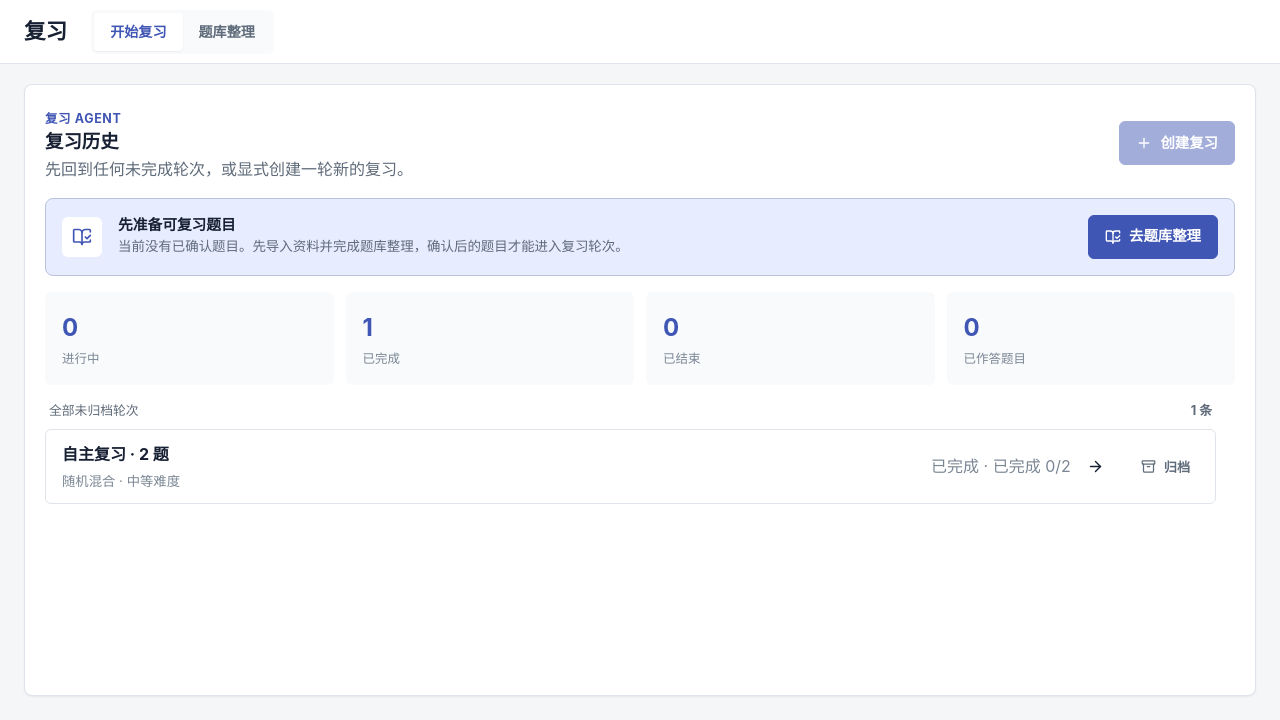
Scenario: R2 ReviewPage › shows completed results without reopening setup
Expected: the heading "复习历史" is shown, top-left (45, 130), bottom-right (119, 152)
Click the button "2 题" at coordinates (94, 454), box top-left (46, 430), bottom-right (1120, 504)
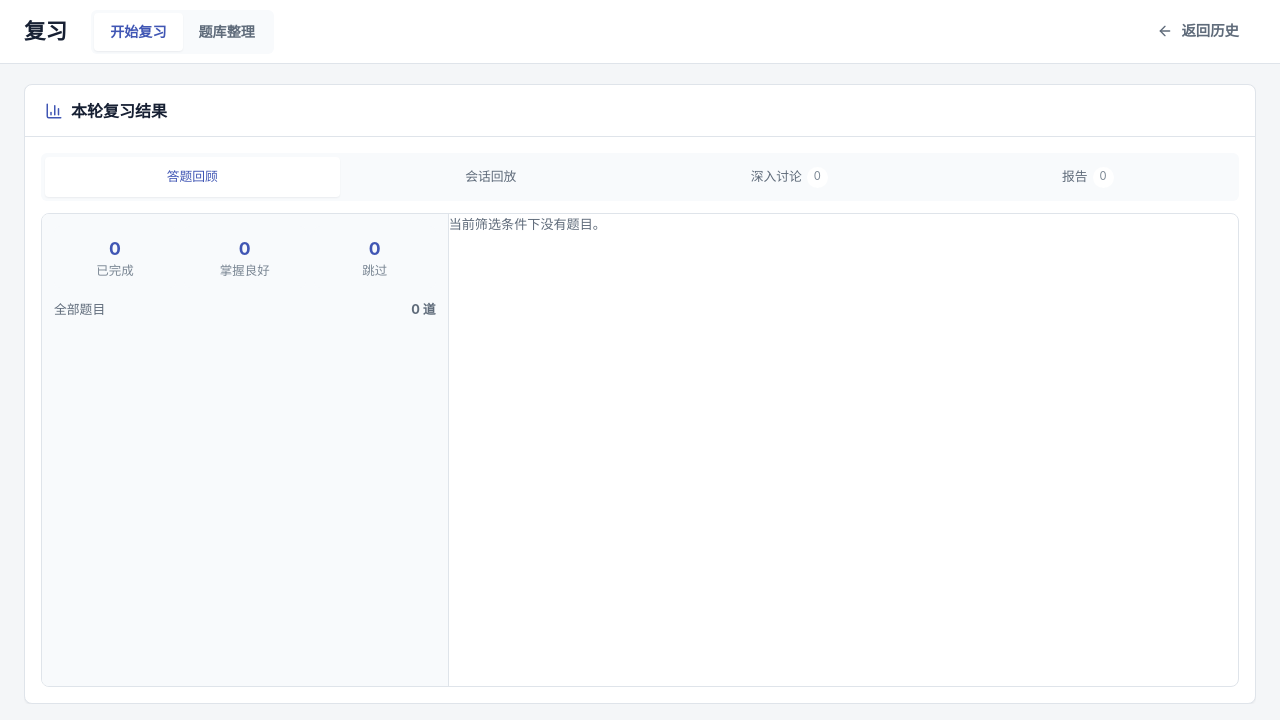
Expected: the heading "本轮复习结果" is shown, top-left (71, 100), bottom-right (167, 120)
Expected: the tab "答题回顾" is shown, top-left (45, 157), bottom-right (340, 197)
Expected: the tab "会话回放" is shown, top-left (344, 157), bottom-right (638, 197)
